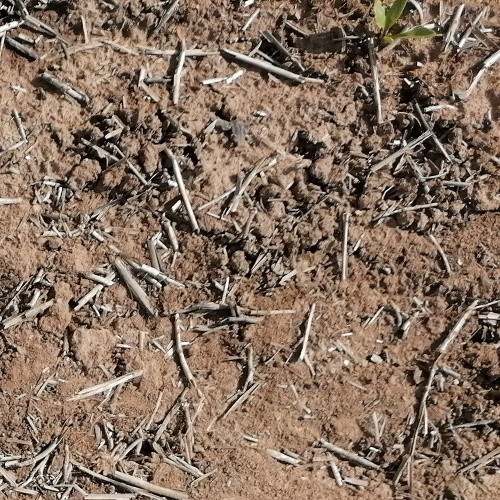beet: (369, 0, 442, 45)
